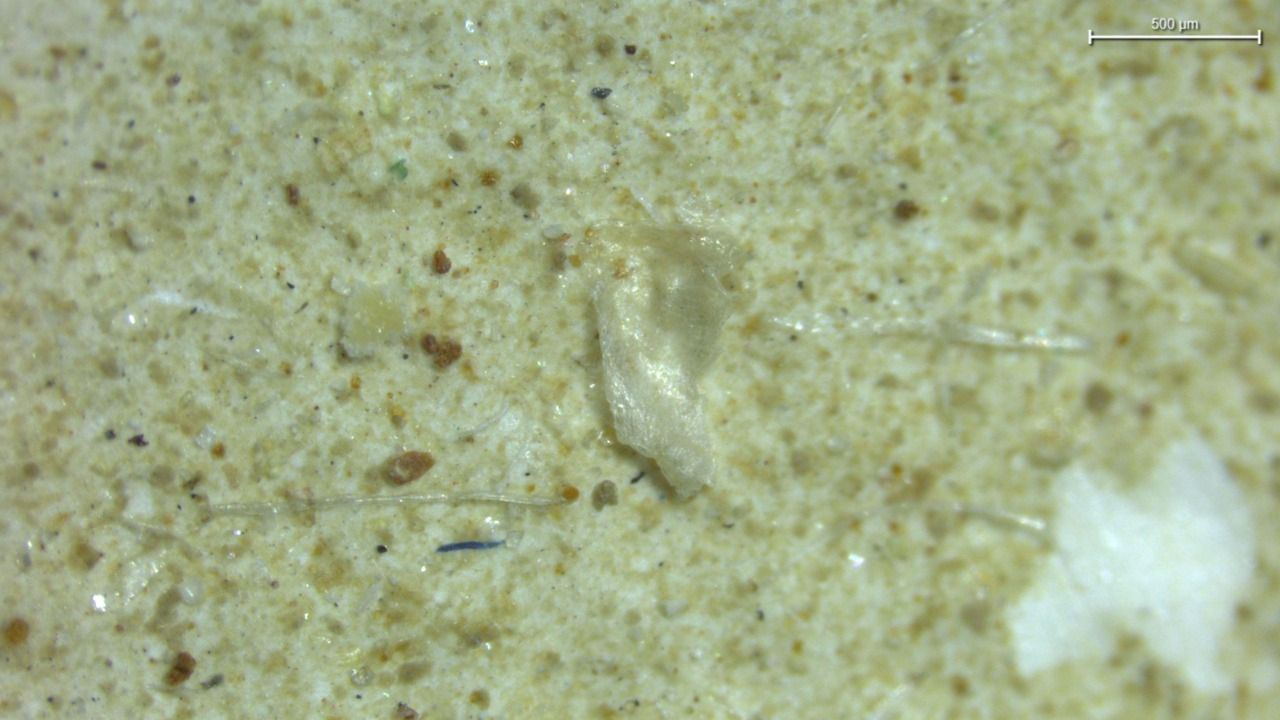microplastic_fragment: (569, 222, 733, 497), (340, 285, 405, 357)
